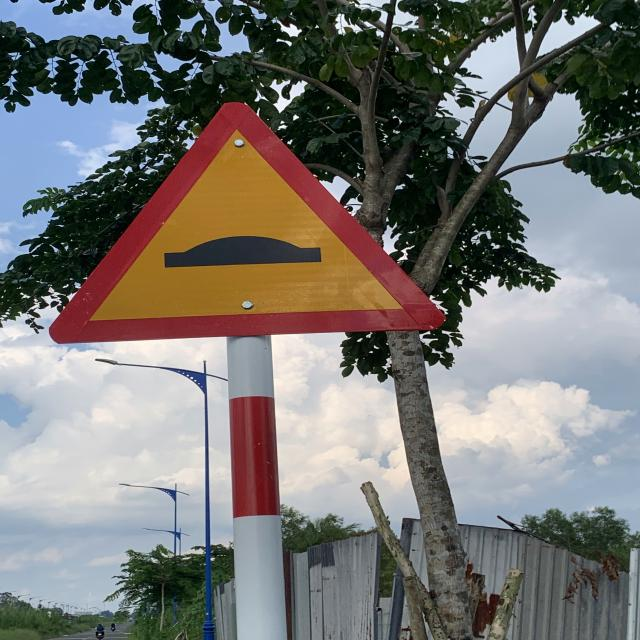Duong_Cong_Ben_Phai: (48, 101, 444, 347)
